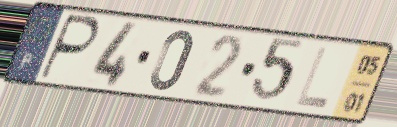0: (147, 28, 196, 94)
2: (191, 32, 245, 101)
4: (89, 19, 140, 90)
5: (248, 36, 308, 109)
L: (292, 44, 332, 111)
P: (35, 12, 103, 83)
